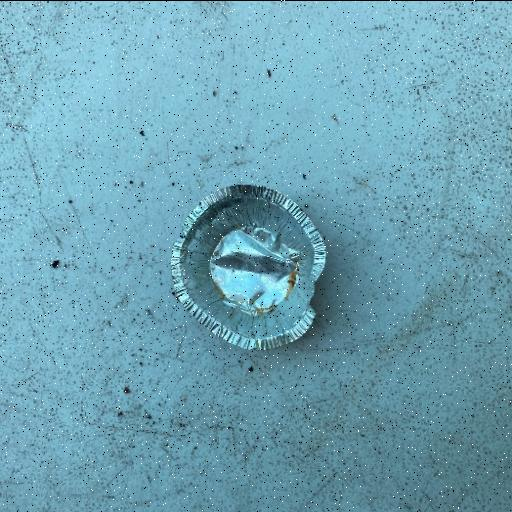Metal: (168, 182, 328, 352)
